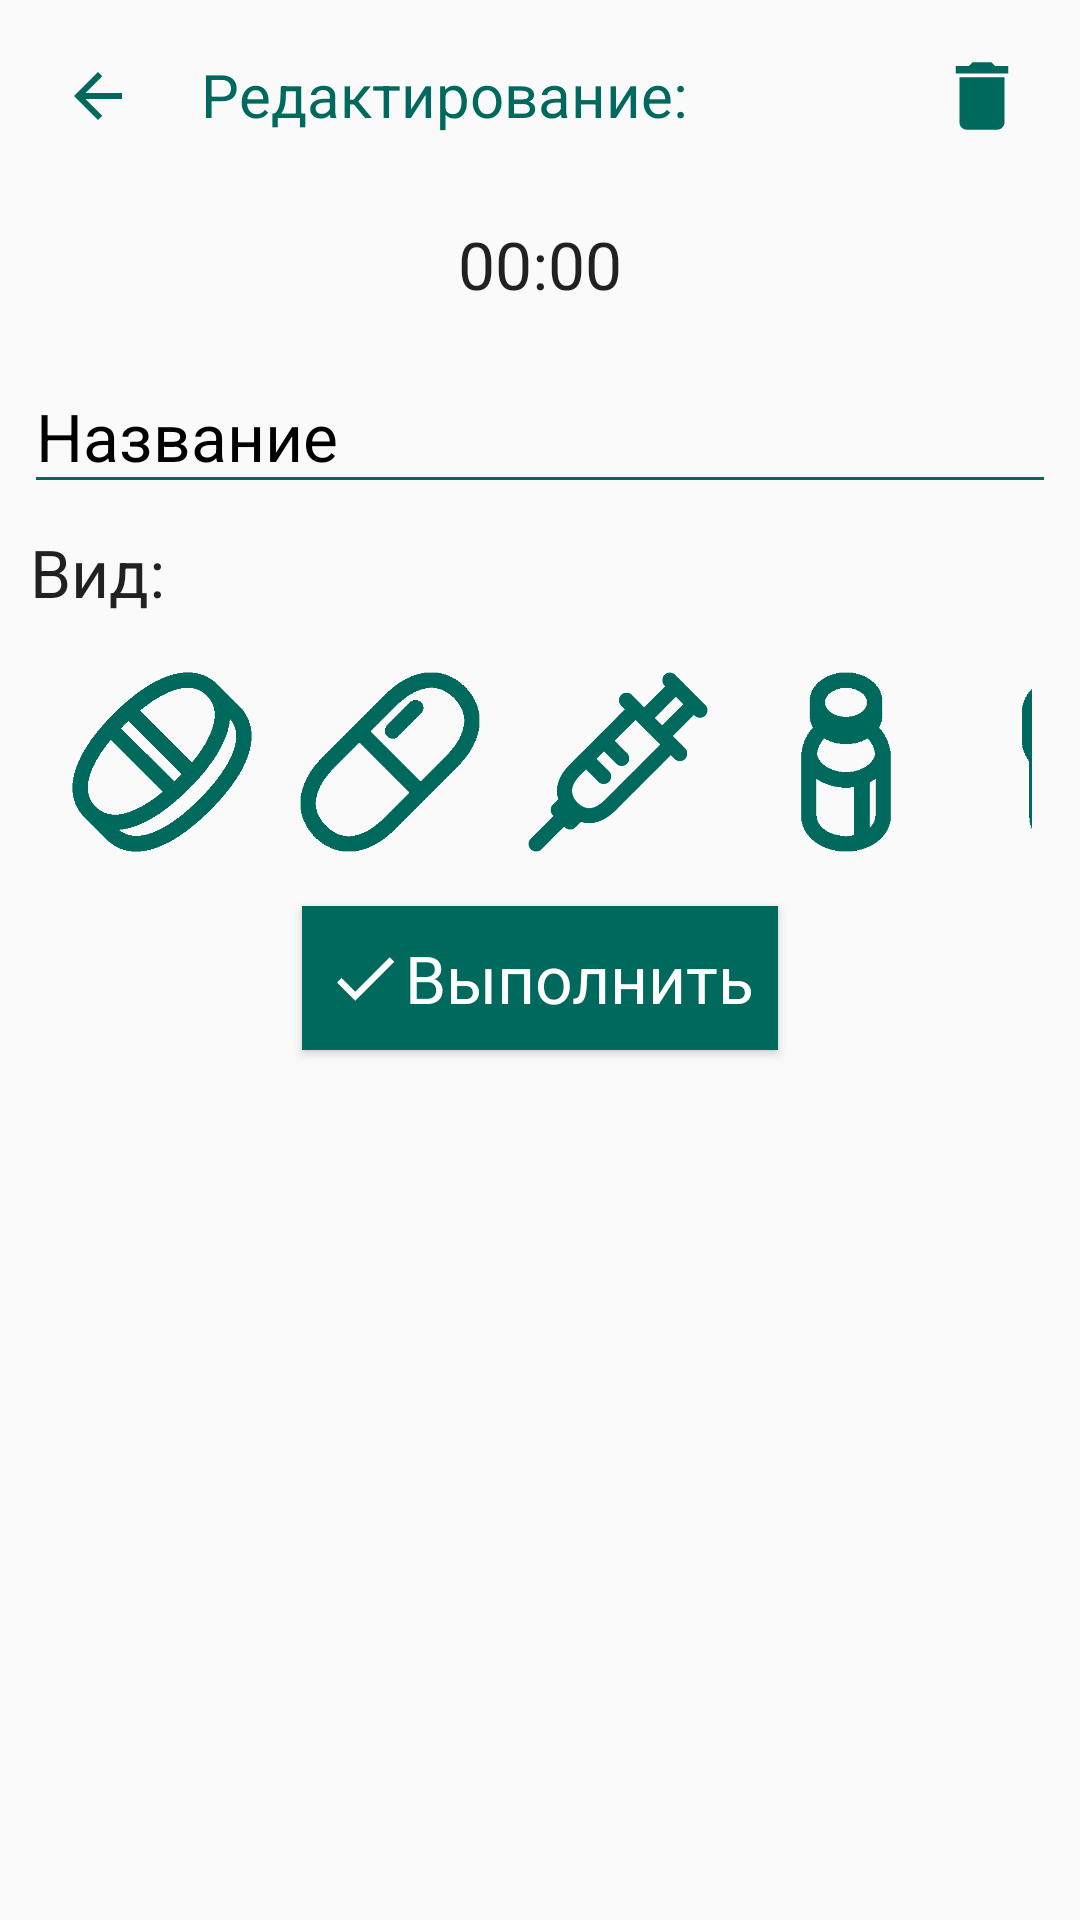

Where icons sit on this 1080 × 1920 app screen, as [x1,y1,x2,y2]:
arrow back: [74,72,122,120]
delete: [955,62,1009,130]
pill: [72,672,252,852], [300,672,480,852]
syringe: [528,672,708,852]
